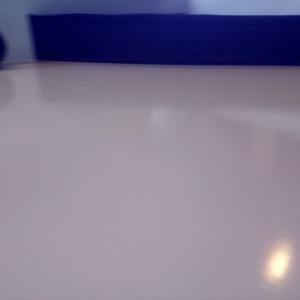zone: (26, 13, 300, 67)
